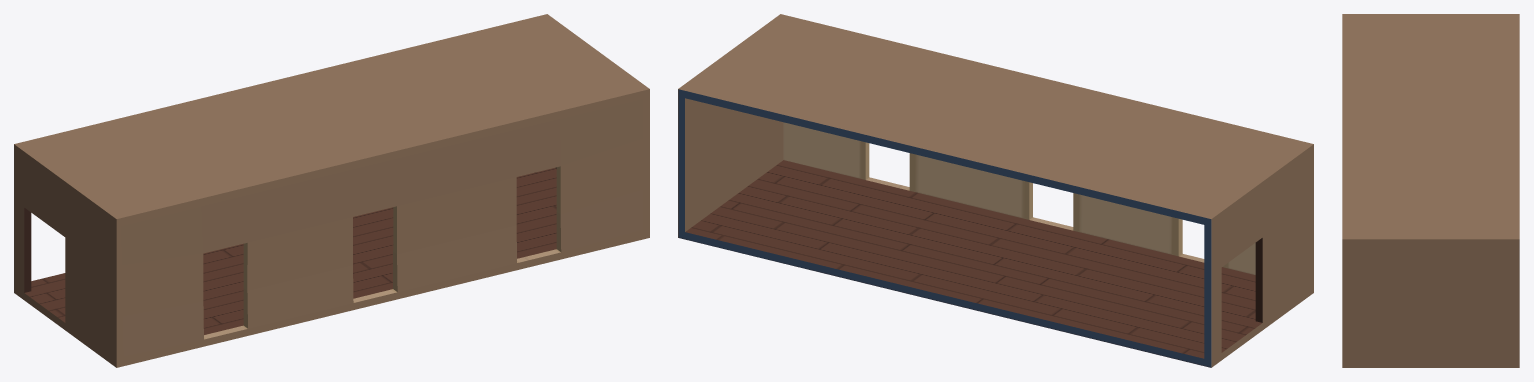
File: Hallway3UP_3Doors_RIGHT.fbx
3 views of the same model, side by side, from view 1: azimuth 30°, elevation 25°; view 2: azimuth 150°, elevation 25°; view 3: azimuth 270°, elevation 25° (orthographic). The views are drawn at different scales.
Parts seen in each view (by area): view 1: up3_3doors_RIGHT; view 2: up3_3doors_RIGHT; view 3: up3_3doors_RIGHT.
Boxes of the visible parts, x1=… form: up3_3doors_RIGHT: x1=14, y1=14, x2=649, y2=367; up3_3doors_RIGHT: x1=678, y1=14, x2=1313, y2=367; up3_3doors_RIGHT: x1=1342, y1=14, x2=1519, y2=367.
Bounding box in the file's own units: 1501 × 400 × 500.
